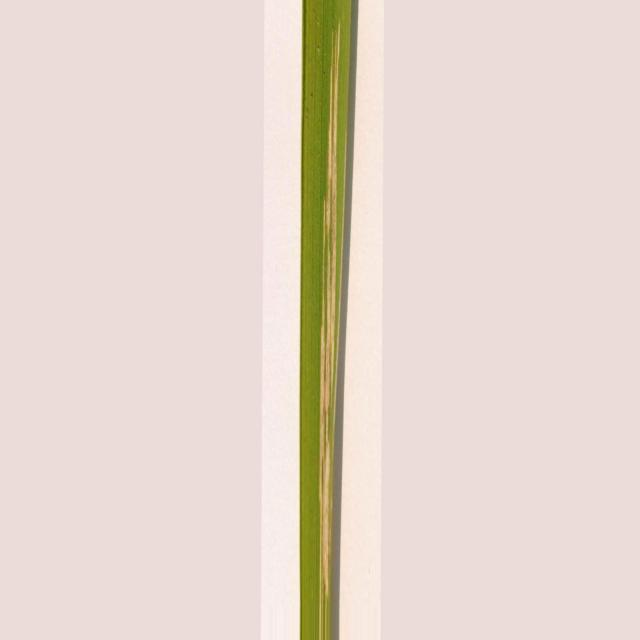Bacterial_Leaf_Blight: (316, 29, 341, 640)
